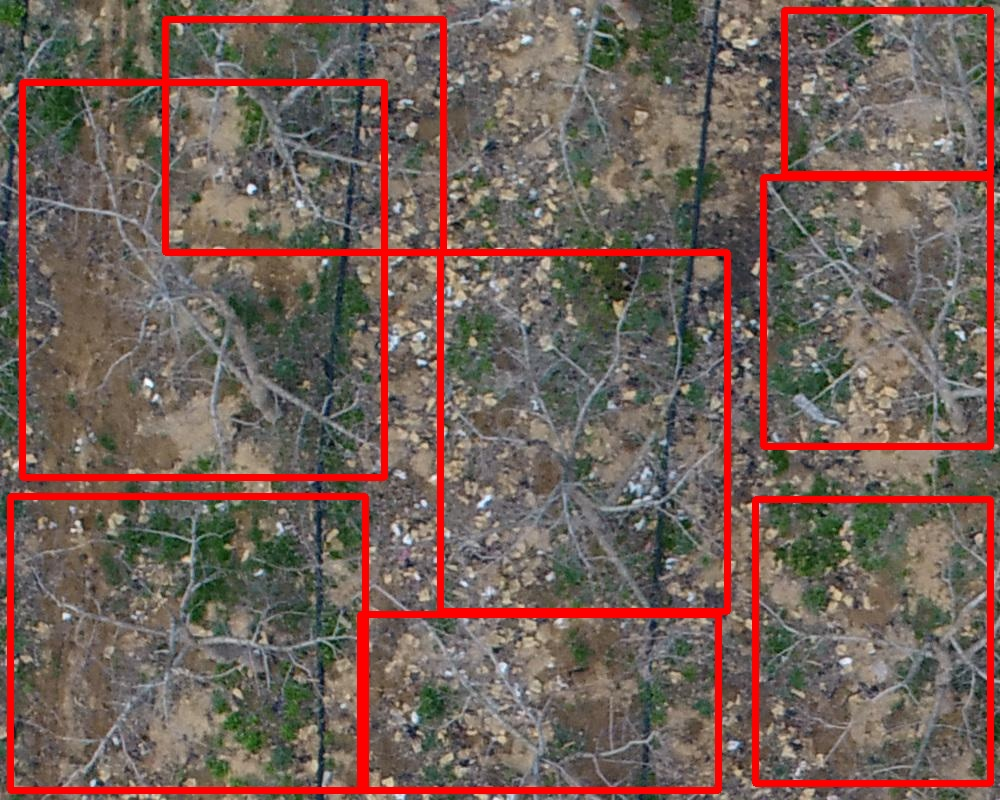apple: (22, 82, 384, 477), (10, 496, 365, 790), (440, 252, 727, 611), (755, 499, 990, 783), (165, 19, 443, 252), (360, 614, 718, 790), (763, 177, 990, 446), (784, 10, 990, 174)
